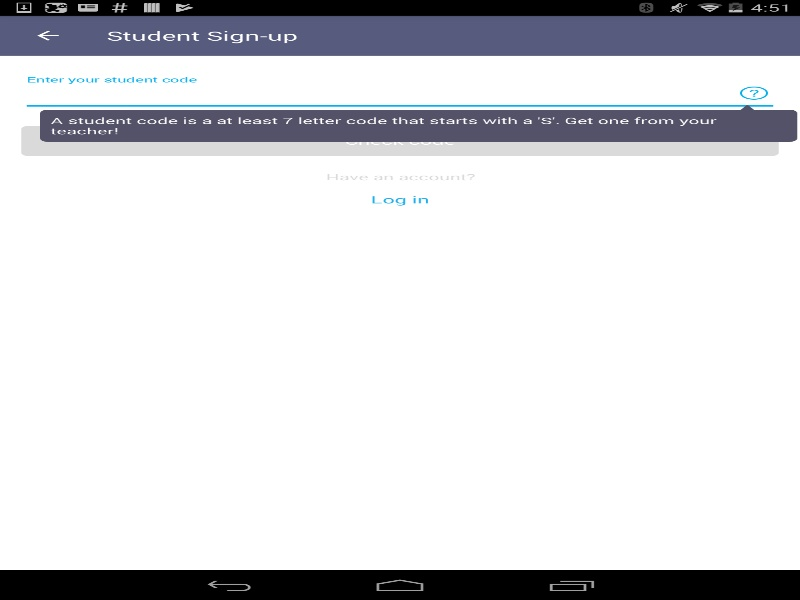Button: (21, 125, 778, 155), (10, 15, 85, 55)
Input: (21, 82, 778, 110)
